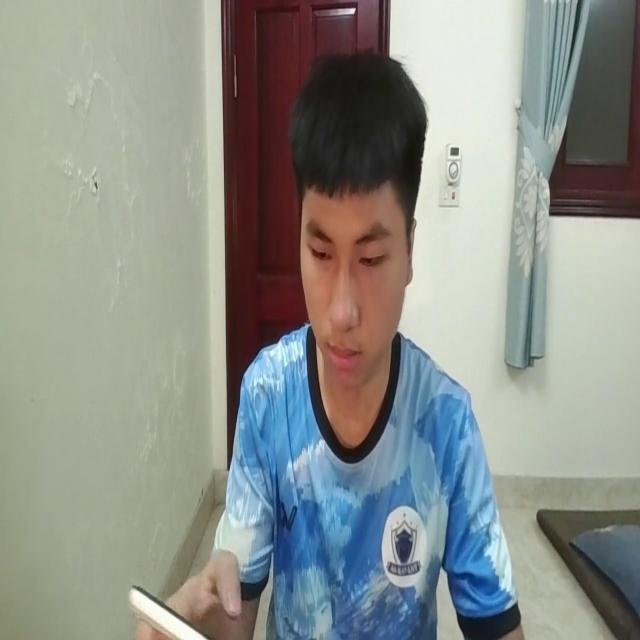phone: (130, 572, 208, 640)
student: (131, 50, 523, 640)
